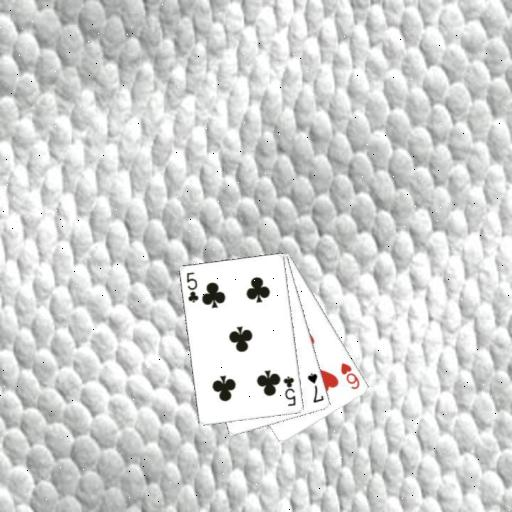5C: (280, 374, 297, 408), (184, 270, 200, 305)
6H: (338, 360, 362, 392)
7S: (304, 370, 326, 405)
